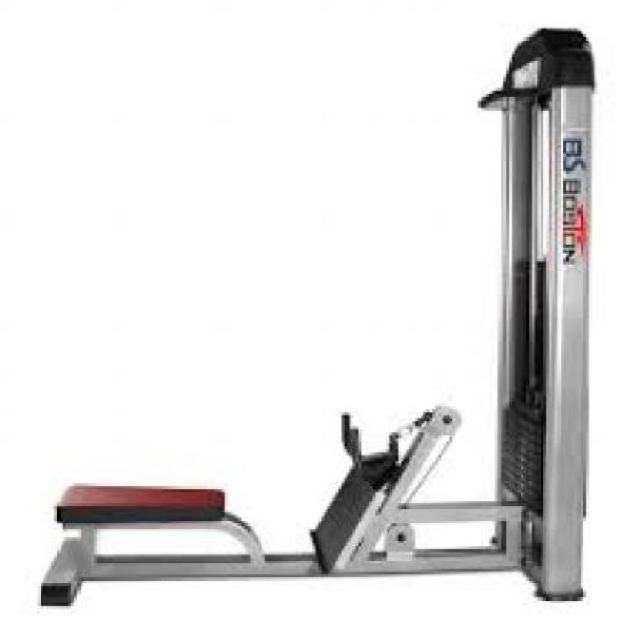Seated Cable Rows: (35, 19, 600, 606)
